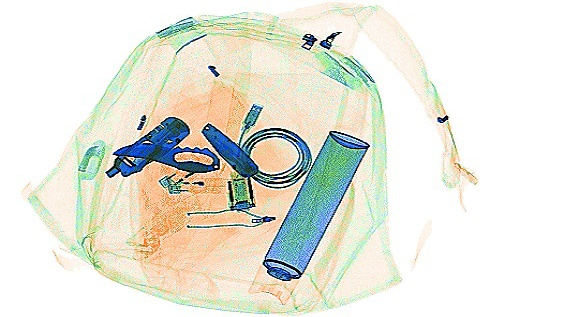knife: (103, 113, 188, 178), (109, 139, 219, 173), (197, 119, 259, 179)
lighter: (157, 151, 200, 189), (166, 175, 234, 194)
pressure: (246, 127, 370, 305)
